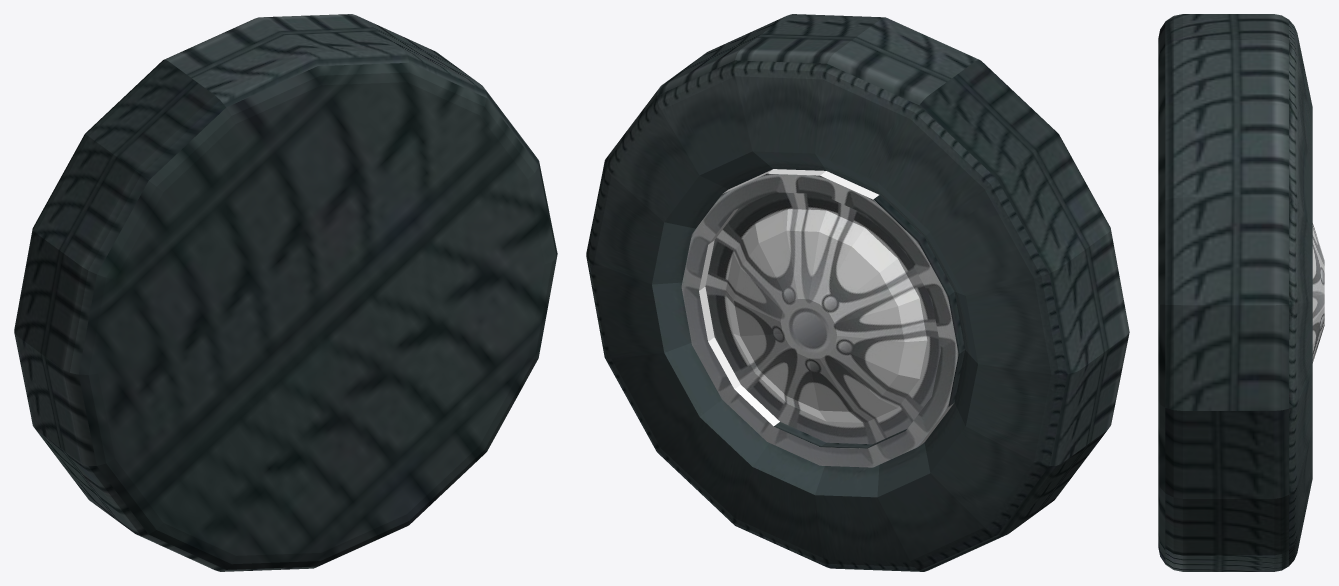
Rendered from Llanta.fbx.
3 views of the same model, side by side, from view 1: azimuth 30°, elevation 25°; view 2: azimuth 150°, elevation 25°; view 3: azimuth 270°, elevation 25° (orthographic).
Visible parts, largest first — view 1: Coche_Llanta; view 2: Coche_Llanta; view 3: Coche_Llanta.
Part boxes in pixels (box(x1,y1,x2,y2)): Coche_Llanta: box(14, 14, 557, 571); Coche_Llanta: box(586, 14, 1129, 571); Coche_Llanta: box(1158, 14, 1324, 571).
Bounding box in the file's own units: 74.52 × 74.52 × 22.23.
